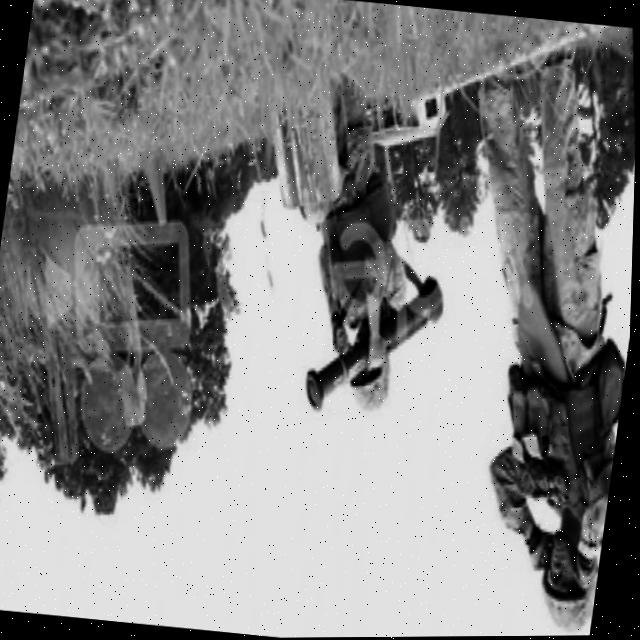rocket: (287, 256, 471, 427)
